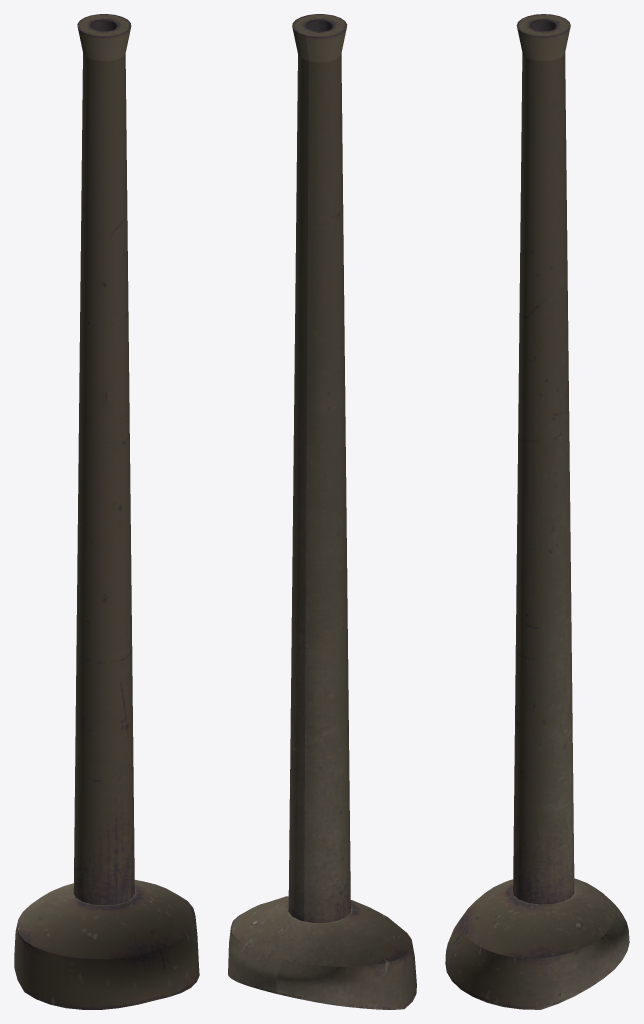
Rendered from Gun_02.glb.
The picture shows the model from 3 angles, left to right: view 1: azimuth 30°, elevation 25°; view 2: azimuth 150°, elevation 25°; view 3: azimuth 270°, elevation 25°; orthographic projection. The views are drawn at different scales.
Visible parts, largest first — view 1: set_0_group_0; view 2: set_0_group_0; view 3: set_0_group_0.
Boxes of the visible parts, x1,y1,x2,y2 form: set_0_group_0: (14,14,199,1009); set_0_group_0: (228,14,416,1009); set_0_group_0: (445,14,629,1009).
Size of the model in its own units: 0.5395 by 2.99 by 0.5288.
1 material, 1 textured.
